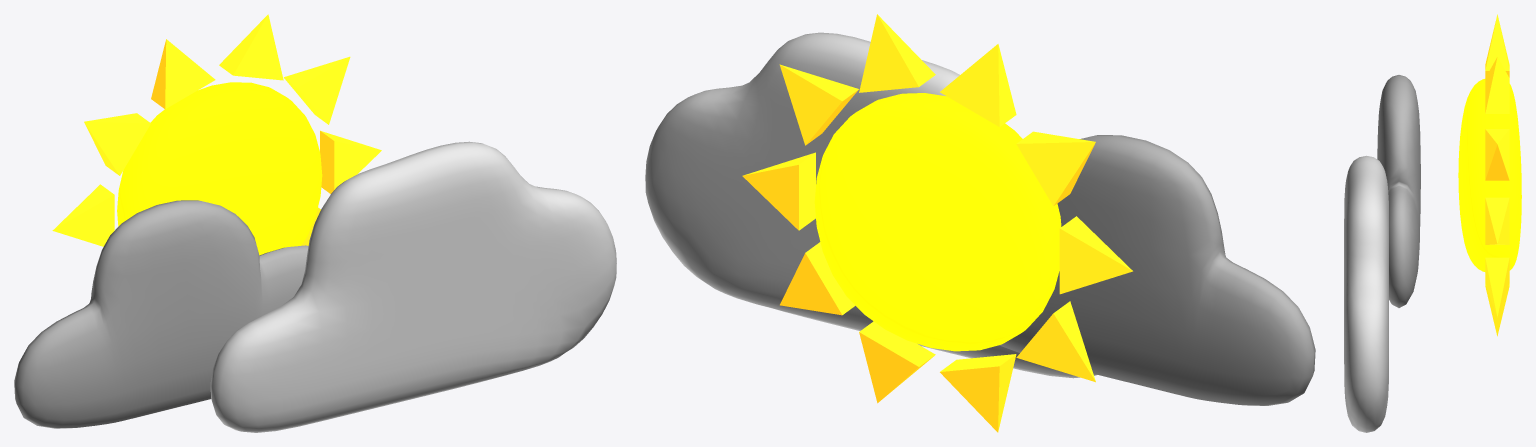
File: cloudy-day.glb
3 renders of one model, left to right at view 1: azimuth 30°, elevation 25°; view 2: azimuth 150°, elevation 25°; view 3: azimuth 270°, elevation 25°, orthographic. The views are drawn at different scales.
Visible parts, largest first — view 1: Cube.090, Cube.091, Cube.089, Circle; view 2: Cube.089, Cube.091, Cube.090, Circle; view 3: Cube.090, Cube.091, Cube.089, Circle.
Boxes of the visible parts, <box> form: Cube.090: <box>210,141,616,432</box>; Cube.091: <box>14,200,308,428</box>; Cube.089: <box>117,82,322,255</box>; Circle: <box>52,14,381,246</box>; Cube.089: <box>814,93,1061,351</box>; Cube.091: <box>999,135,1315,405</box>; Cube.090: <box>645,32,1097,378</box>; Circle: <box>742,14,1132,432</box>; Cube.090: <box>1344,155,1388,432</box>; Cube.091: <box>1377,75,1420,307</box>; Cube.089: <box>1458,79,1521,271</box>; Circle: <box>1485,14,1509,336</box>.
Size of the model in its own units: 12.94 by 7.32 by 4.02.
